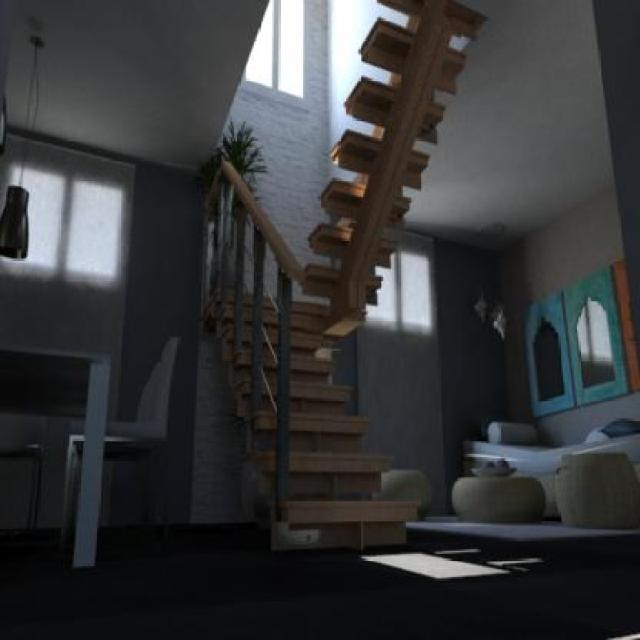stair: (203, 0, 485, 546)
